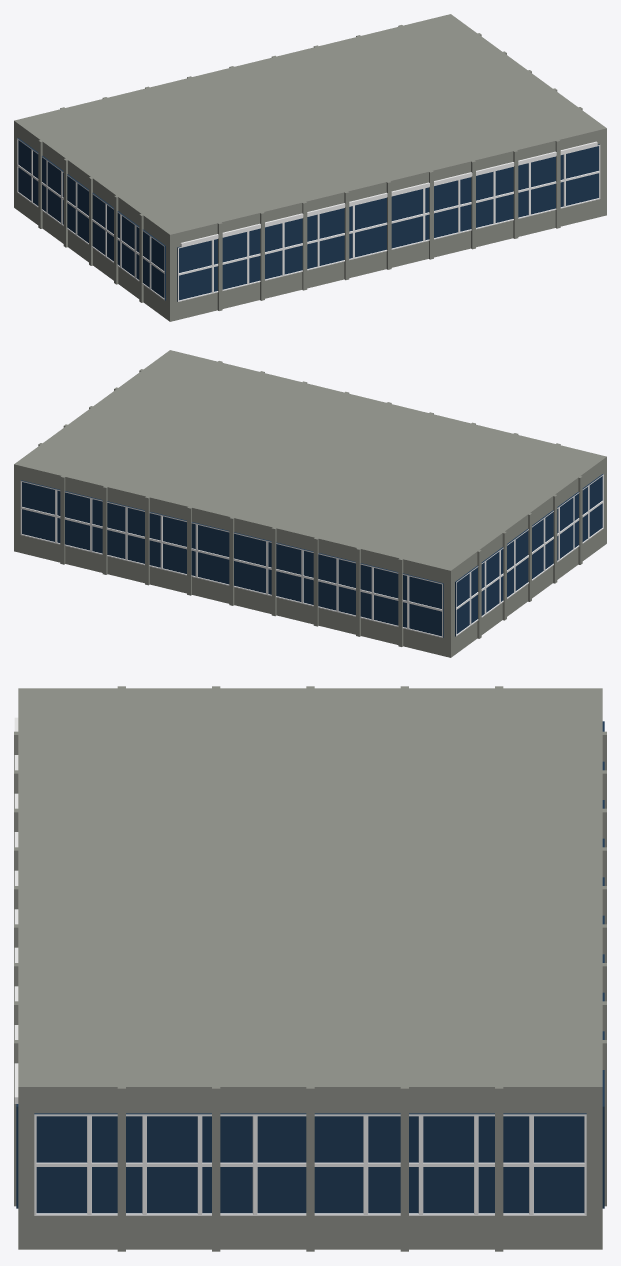
File: mashup-main-mid-prebuilt_close.fbx
3 renders of one model, top to bottom at view 1: azimuth 30°, elevation 25°; view 2: azimuth 150°, elevation 25°; view 3: azimuth 270°, elevation 25°, orthographic. The views are drawn at different scales.
Visible parts, largest first — view 1: a201.MainMid.001; view 2: a201.MainMid.001; view 3: a201.MainMid.001.
Boxes of the visible parts, box(x1,y1,x2,y2) form: a201.MainMid.001: box(14, 14, 606, 321); a201.MainMid.001: box(14, 350, 606, 657); a201.MainMid.001: box(14, 686, 606, 1251).
Size of the model in its own units: 21.2 by 4 by 13.2.
